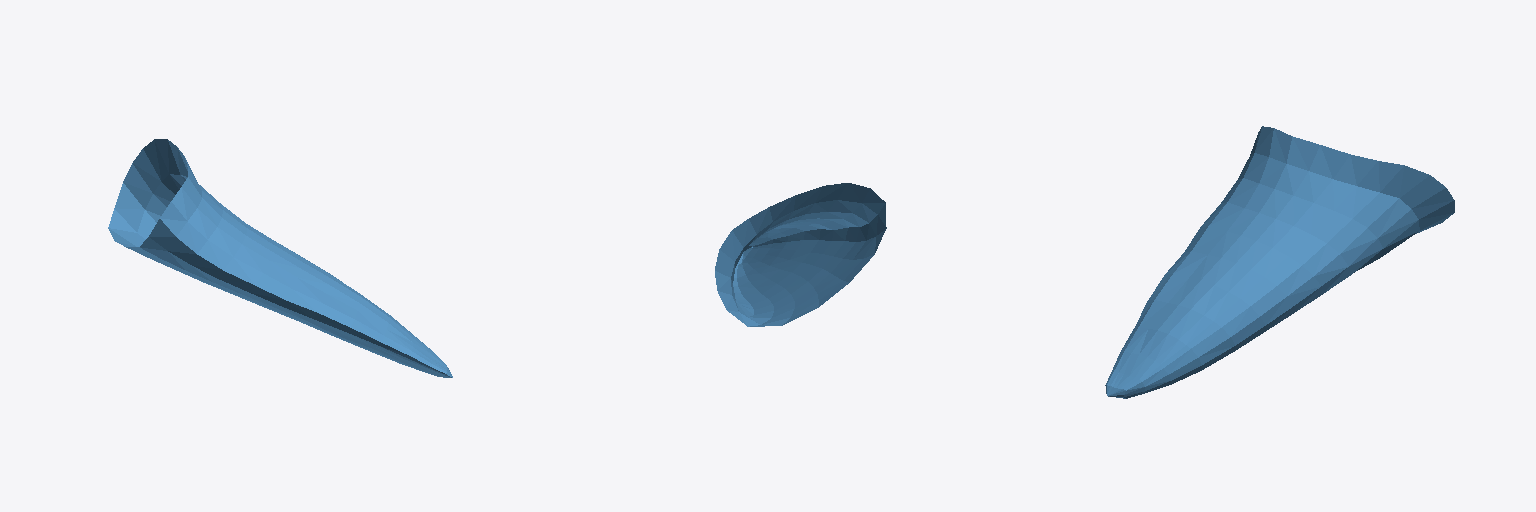
Rendered from aletas_der_1.obj.
The picture shows the model from 3 angles: view 1: azimuth 30°, elevation 25°; view 2: azimuth 150°, elevation 25°; view 3: azimuth 270°, elevation 25°; orthographic projection.
Parts seen in each view (by area): view 1: aletas_der_shark.005; view 2: aletas_der_shark.005; view 3: aletas_der_shark.005.
Part boxes in pixels (bbox=[...]): aletas_der_shark.005: bbox=[108, 139, 452, 377]; aletas_der_shark.005: bbox=[715, 183, 886, 326]; aletas_der_shark.005: bbox=[1105, 126, 1454, 398].
Bounding box in the file's own units: 5.29 × 4.04 × 7.08.